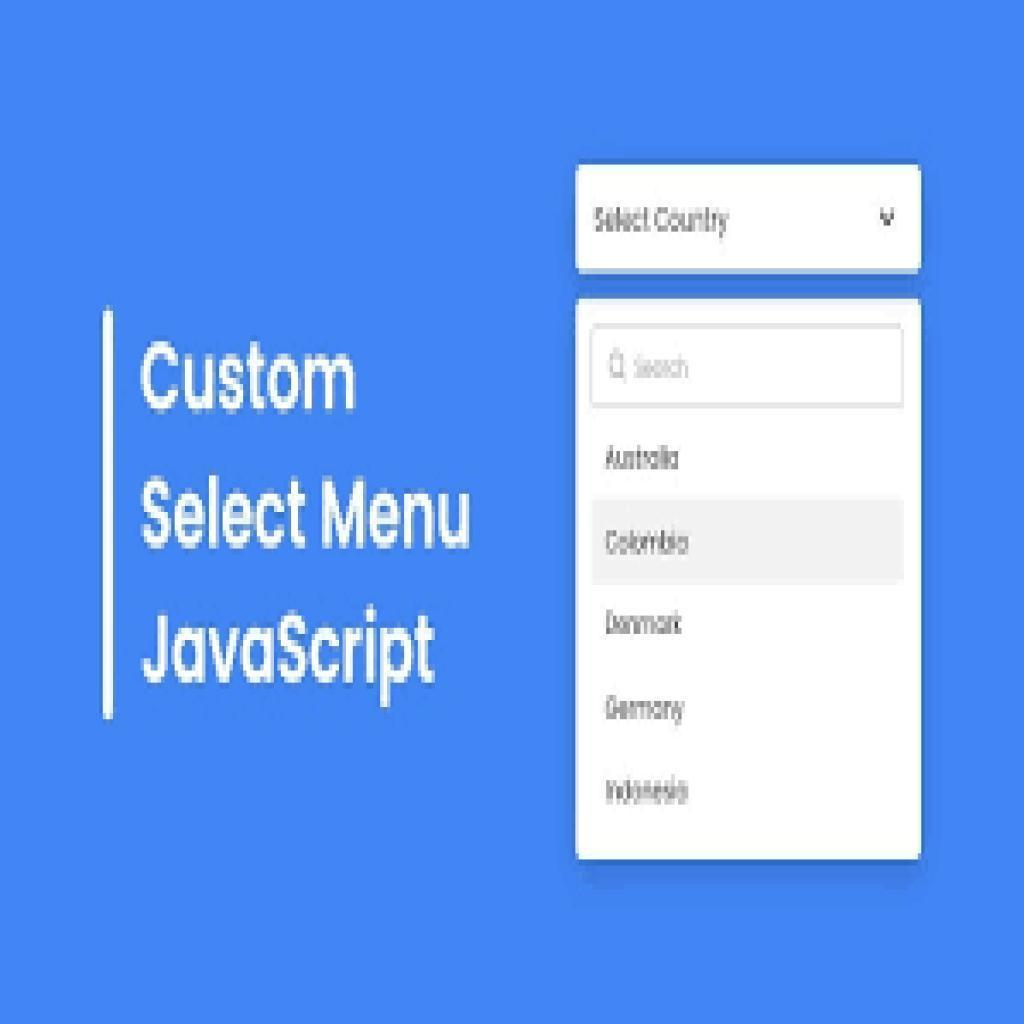dropdown: (577, 169, 921, 270)
input: (592, 326, 902, 402)
